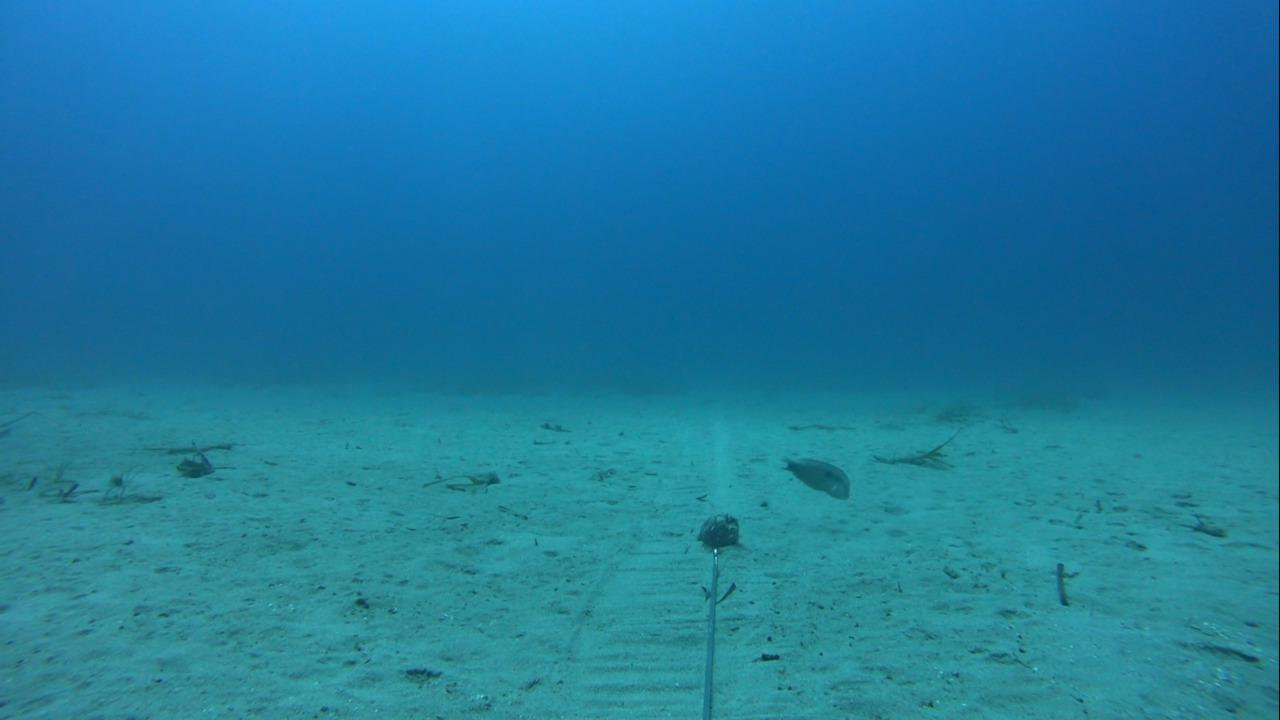raor: (775, 453, 854, 501)
